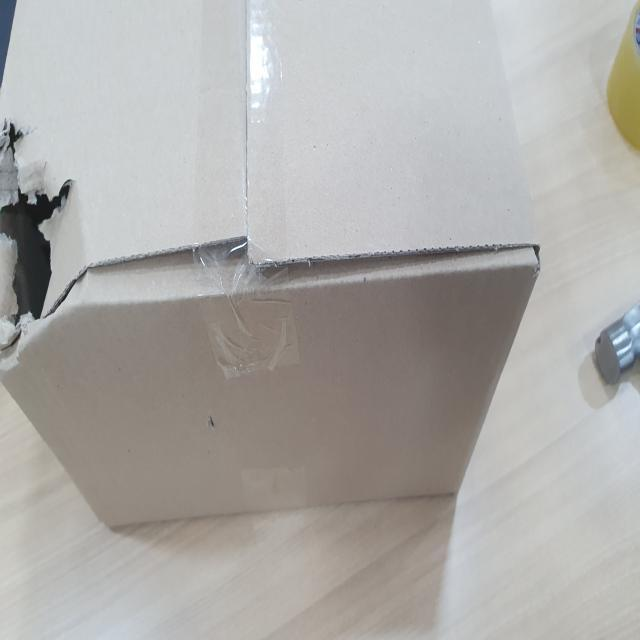hole: (1, 127, 79, 335)
